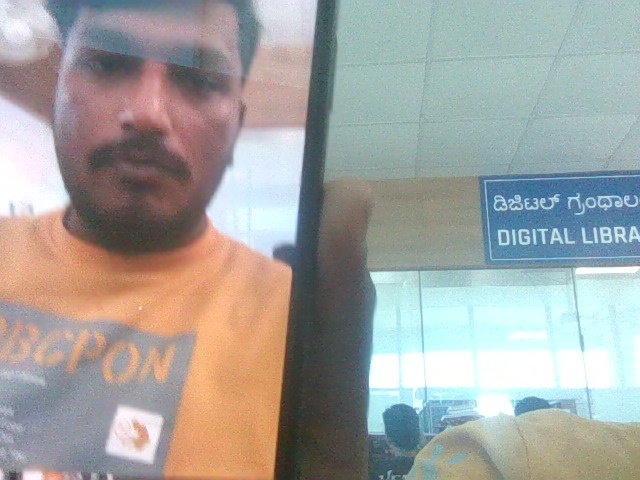fake: (20, 0, 280, 368)
